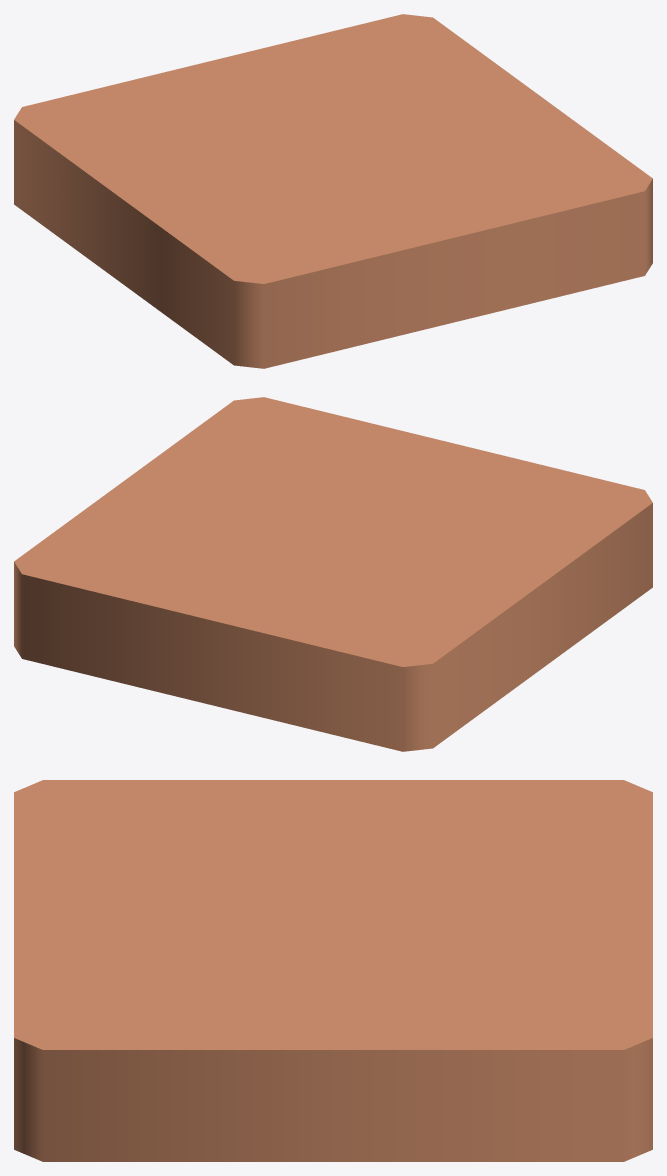
The model's file is RoofFlatTop.fbx.
3 views of the same model, one above another, from view 1: azimuth 30°, elevation 25°; view 2: azimuth 150°, elevation 25°; view 3: azimuth 270°, elevation 25° (orthographic). The views are drawn at different scales.
Parts seen in each view (by area): view 1: RoofFlatTop; view 2: RoofFlatTop; view 3: RoofFlatTop.
Boxes of the visible parts, bbox=[...] form: RoofFlatTop: bbox=[14, 14, 652, 368]; RoofFlatTop: bbox=[14, 397, 652, 751]; RoofFlatTop: bbox=[14, 780, 652, 1161].
Bounding box in the file's own units: 330 × 63.75 × 330.
